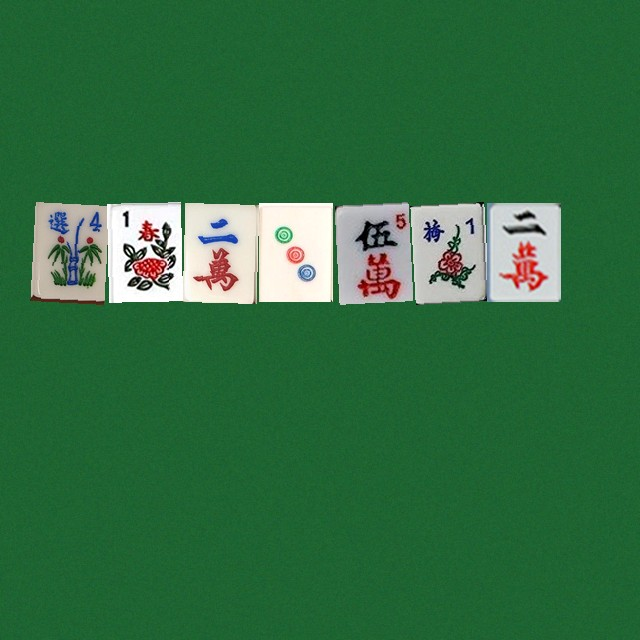tile: (30, 202, 104, 301), (106, 202, 180, 301), (182, 202, 256, 301), (258, 202, 332, 301), (334, 202, 408, 301), (410, 202, 484, 301), (486, 202, 560, 301)
